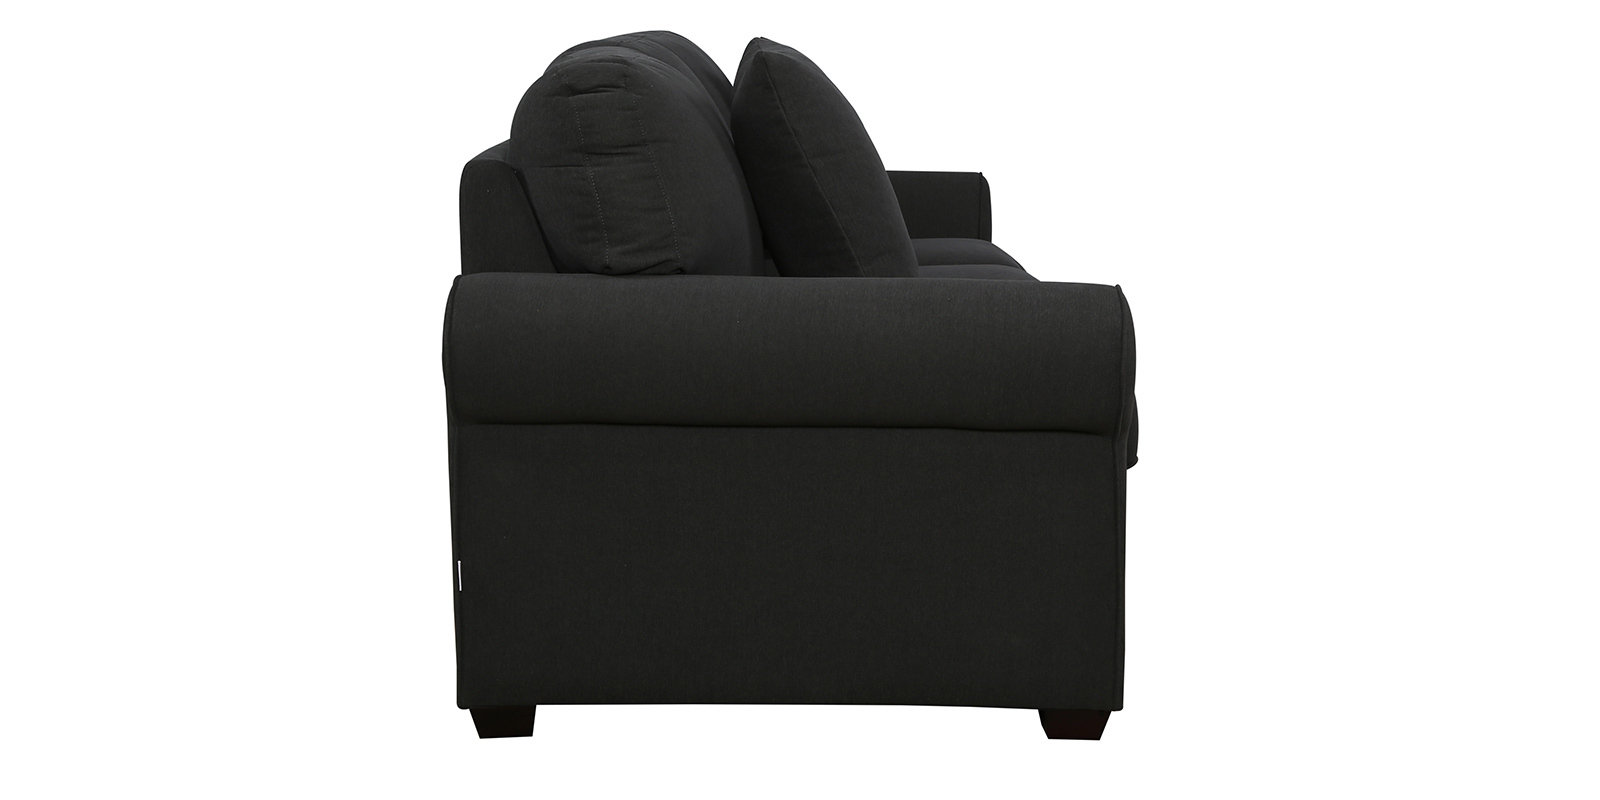Madeira Three Seater Sofa in Charcoal Grey Colour by CasaCraft: (441, 26, 1139, 741)
